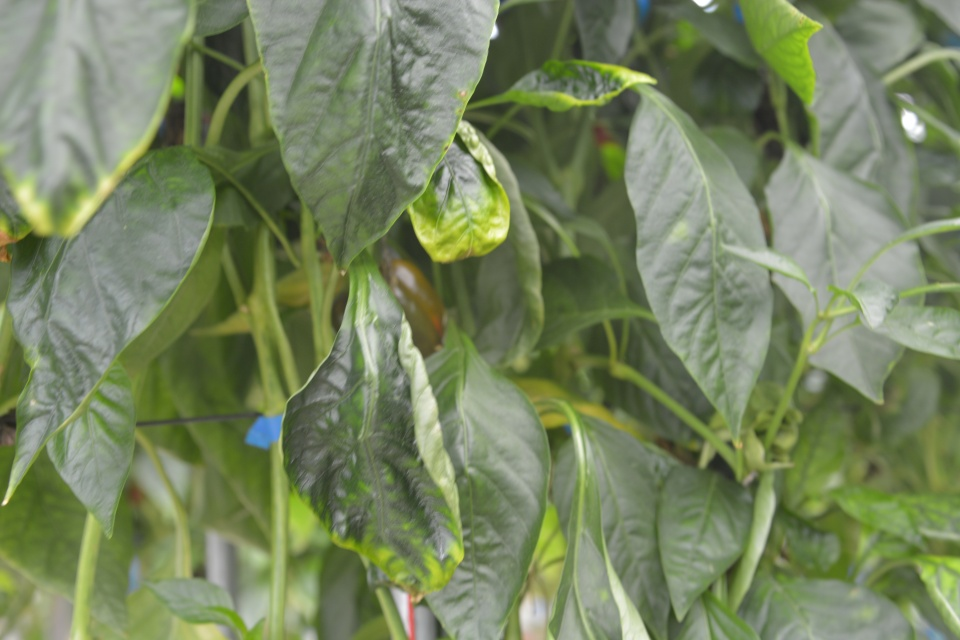fruit: (330, 257, 445, 361)
